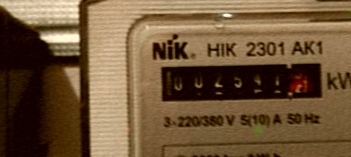0: (172, 71, 185, 92), (193, 69, 205, 90)
1: (272, 69, 283, 89)
2: (213, 69, 225, 90)
4: (253, 68, 265, 89)
5: (232, 68, 244, 90)
6: (294, 80, 305, 95)
screen: (152, 54, 335, 111)
